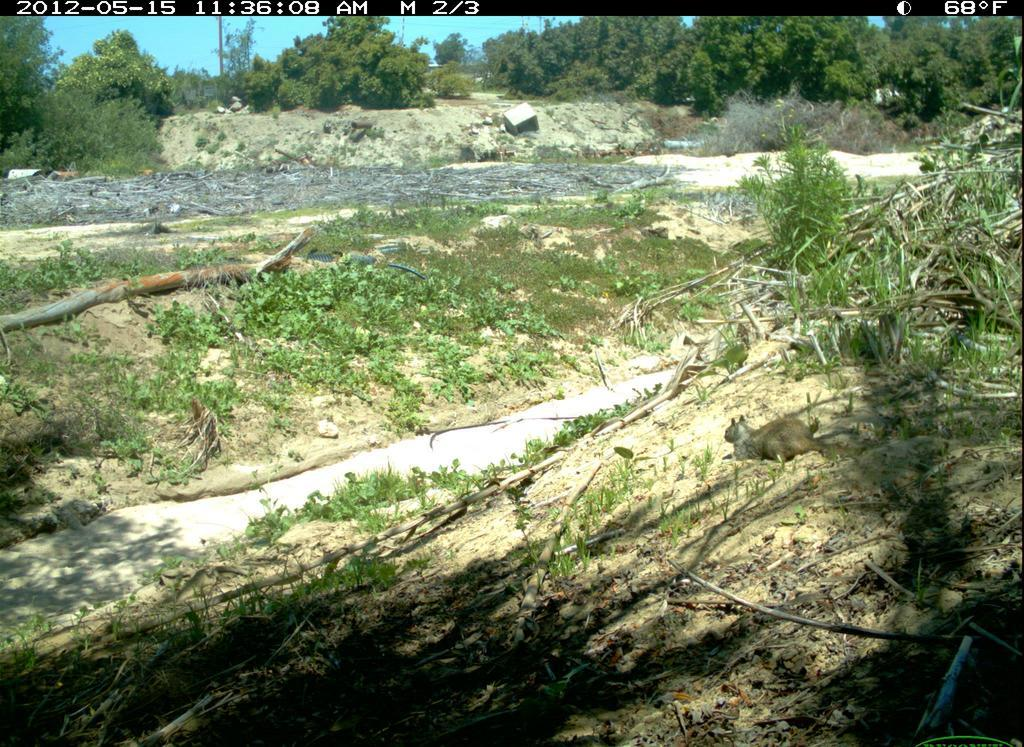squirrel: (717, 396, 870, 472)
